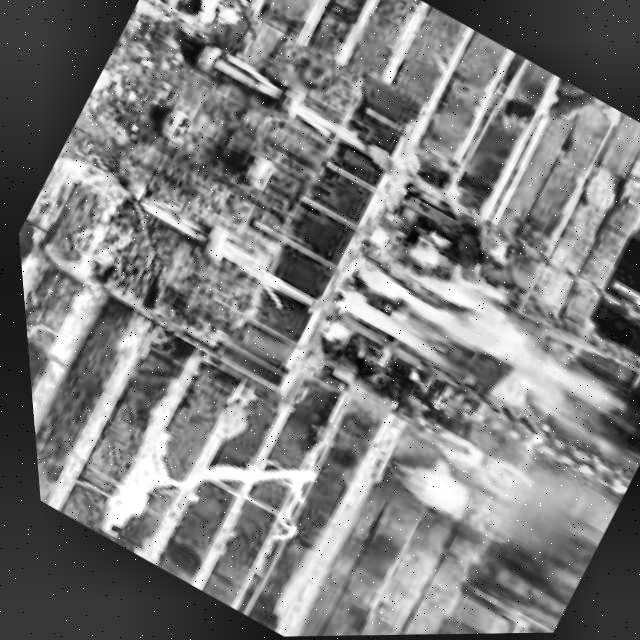Fire: (321, 216, 640, 469)
